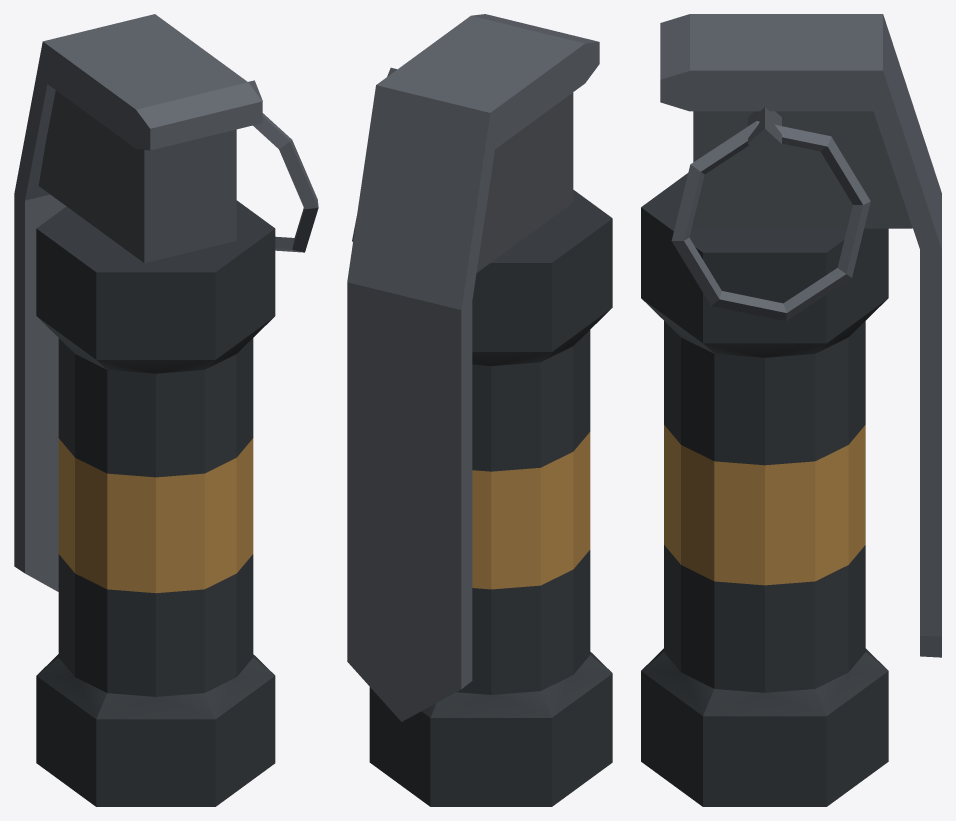
File: SM_Wep_Flashbang_01.fbx
3 renders of one model, left to right at view 1: azimuth 30°, elevation 25°; view 2: azimuth 150°, elevation 25°; view 3: azimuth 270°, elevation 25°, orthographic. The views are drawn at different scales.
Parts seen in each view (by area): view 1: SM_Wep_Flashbang_01, SM_Wep_Flashbang_Clip_01, SM_Wep_Flashbang_Pin_01; view 2: SM_Wep_Flashbang_01, SM_Wep_Flashbang_Clip_01; view 3: SM_Wep_Flashbang_01, SM_Wep_Flashbang_Clip_01, SM_Wep_Flashbang_Pin_01.
Boxes of the visible parts, bbox=[...] form: SM_Wep_Flashbang_01: bbox=[36, 90, 275, 806]; SM_Wep_Flashbang_Clip_01: bbox=[14, 14, 262, 591]; SM_Wep_Flashbang_Pin_01: bbox=[248, 80, 318, 252]; SM_Wep_Flashbang_01: bbox=[369, 92, 612, 806]; SM_Wep_Flashbang_Clip_01: bbox=[347, 14, 599, 721]; SM_Wep_Flashbang_01: bbox=[641, 111, 912, 806]; SM_Wep_Flashbang_Clip_01: bbox=[660, 14, 941, 657]; SM_Wep_Flashbang_Pin_01: bbox=[671, 107, 870, 321].
Bounding box in the file's own units: 5.75 × 17.54 × 6.65.
